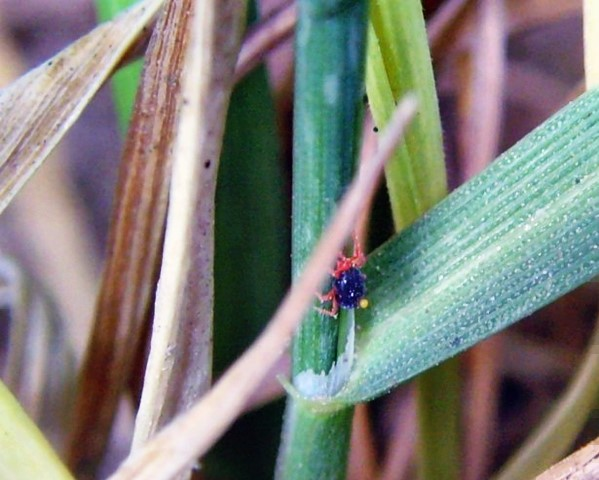Wheat Red Spider: (306, 245, 378, 334)
